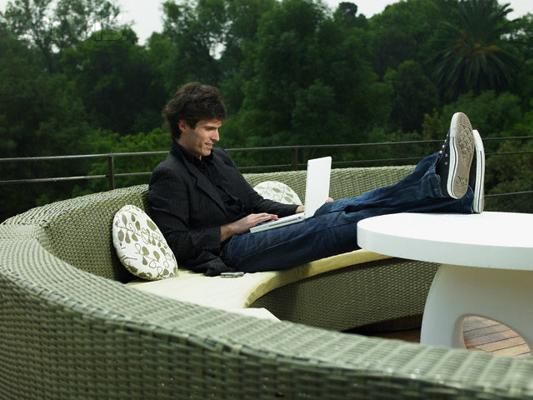person: (143, 81, 487, 277)
